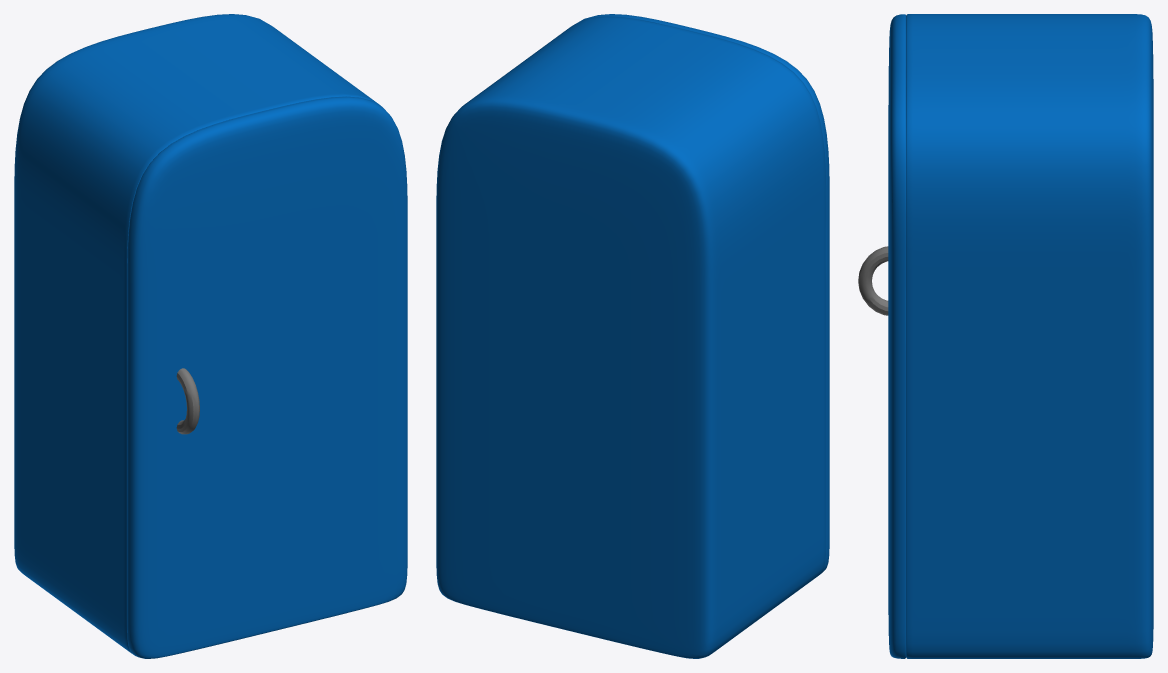
File: PetiAis.fbx
The picture shows the model from 3 angles, left to right: view 1: azimuth 30°, elevation 25°; view 2: azimuth 150°, elevation 25°; view 3: azimuth 270°, elevation 25°; orthographic projection. The views are drawn at different scales.
Parts seen in each view (by area): view 1: FridgeDoor, Fridge; view 2: Fridge, FridgeDoor; view 3: Fridge, FridgeDoor.
Part boxes in pixels (x1,y1,x2,y2): FridgeDoor: (127, 96, 407, 658); Fridge: (14, 14, 380, 653); Fridge: (436, 16, 825, 658); FridgeDoor: (579, 14, 829, 573); Fridge: (906, 14, 1153, 658); FridgeDoor: (858, 14, 906, 658).
Size of the model in its own units: 120 by 214 by 105.
